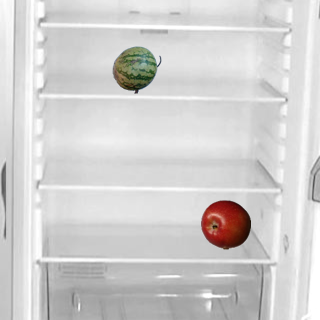Apple Braeburn: (200, 199, 250, 249)
Watermelon: (111, 44, 161, 94)
